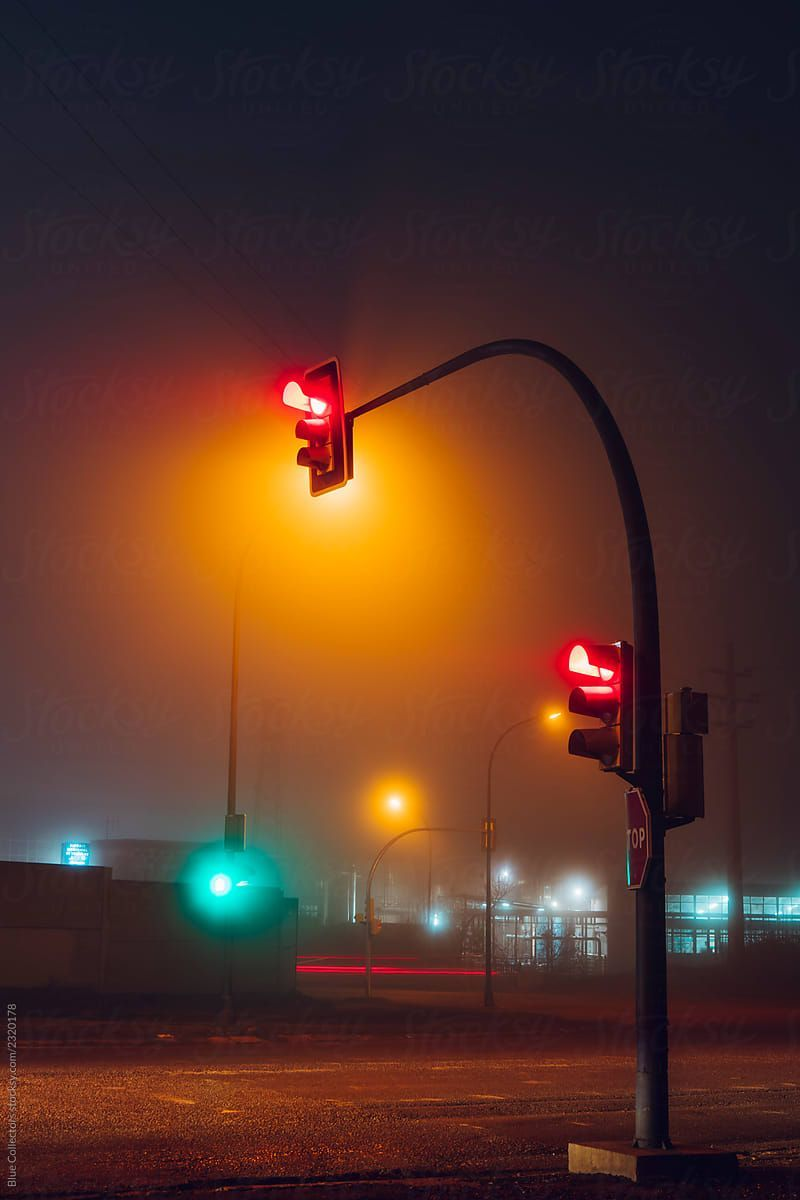pole: (624, 629, 670, 1156)
traffic light: (284, 358, 362, 494), (560, 639, 638, 766)
